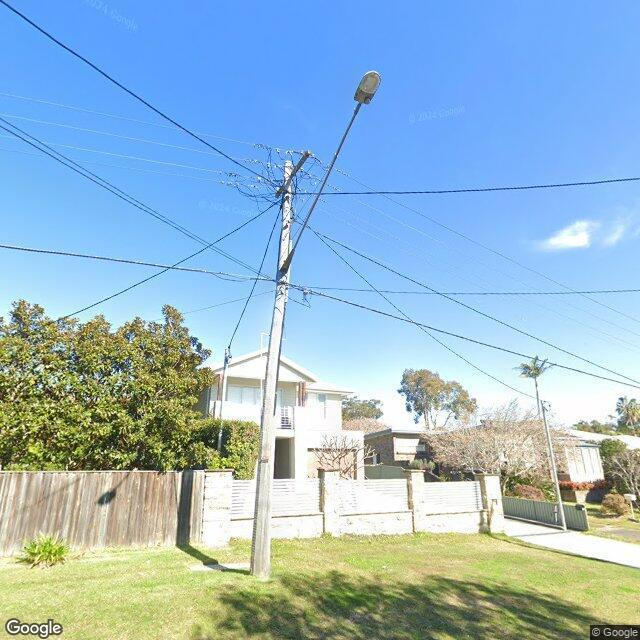crossarm: (274, 148, 311, 199)
steel-pole: (541, 400, 567, 530), (218, 351, 230, 452)
streetlight: (288, 69, 382, 274)
timber-pole: (249, 159, 294, 580)
